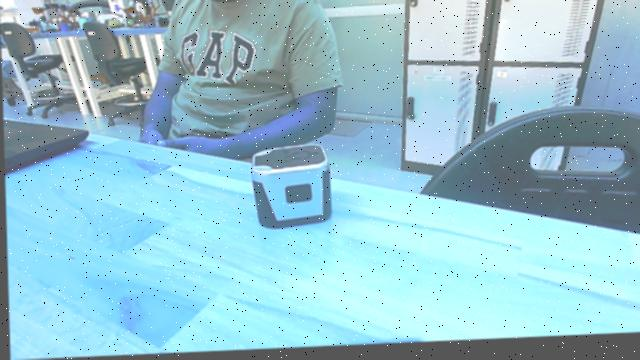adapter: (242, 142, 340, 242)
